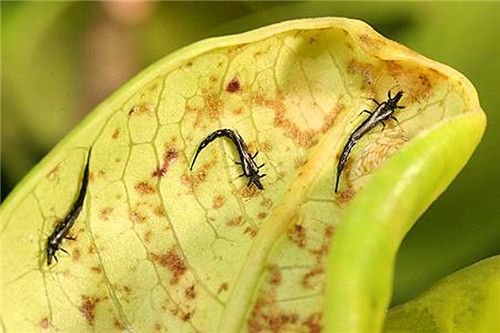Phlaeothripidae: (331, 87, 408, 198), (37, 146, 95, 269), (188, 127, 266, 193)
